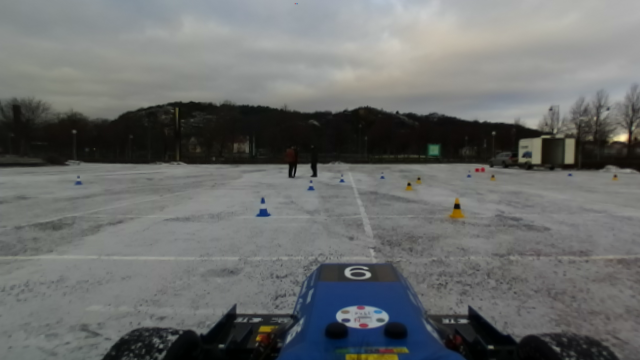blue: (254, 194, 272, 218)
yellow: (447, 197, 467, 220)
